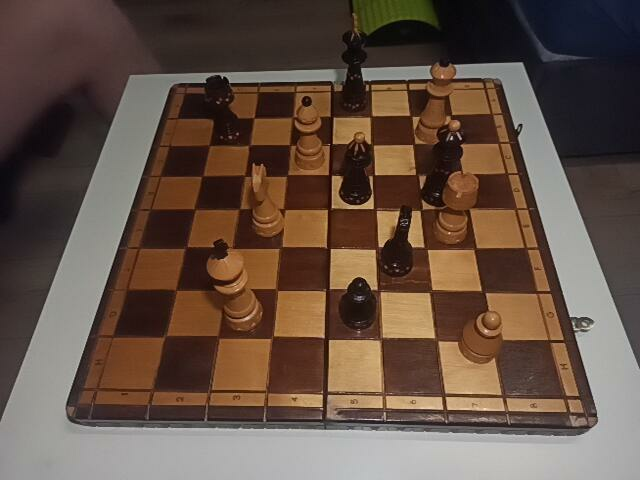B-Bishop: (340, 133, 373, 205)
B-King: (341, 13, 367, 112)
B-Knight: (380, 206, 416, 276)
B-Pawn: (339, 278, 378, 330)
B-Queen: (421, 119, 465, 208)
B-Rook: (203, 75, 244, 143)
W-Bishop: (293, 96, 325, 170)
W-King: (206, 240, 264, 330)
W-Knight: (248, 164, 283, 237)
W-Pawn: (461, 311, 504, 364)
W-Queen: (415, 57, 457, 143)
W-Rook: (433, 171, 479, 245)
